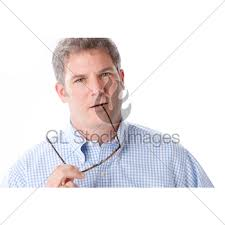white_male: (58, 51, 124, 126)
